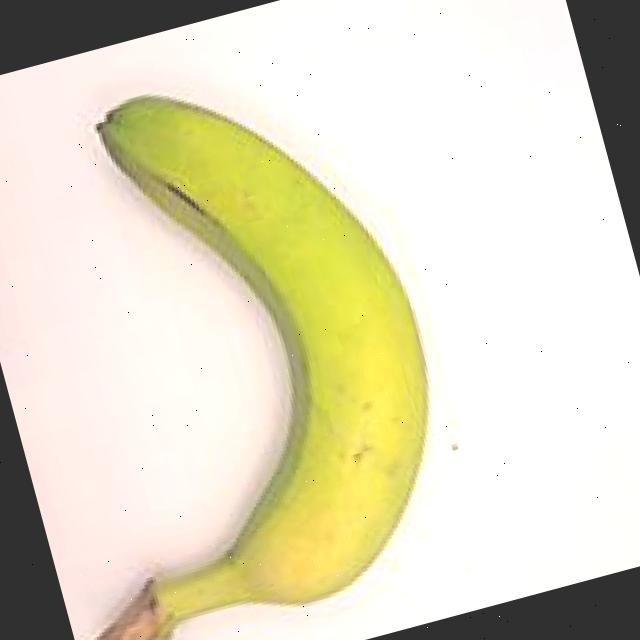Unripe: (0, 26, 509, 640)
